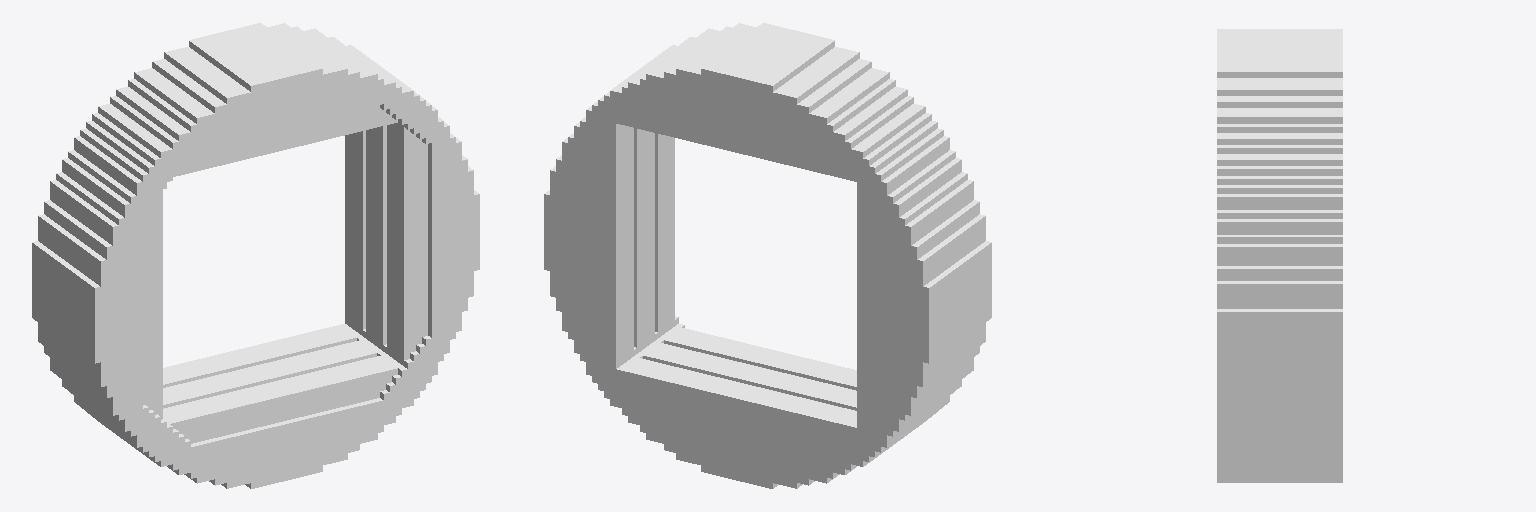
The model's file is flamethrower.obj.
3 renders of one model, left to right at view 1: azimuth 30°, elevation 25°; view 2: azimuth 150°, elevation 25°; view 3: azimuth 270°, elevation 25°, orthographic.
Visible parts, largest first — view 1: object 1; view 2: object 1; view 3: object 1.
Boxes of the visible parts, box(x1,y1,x2,y2) form: object 1: box(32, 23, 479, 488); object 1: box(544, 23, 991, 488); object 1: box(1217, 29, 1342, 482).
Size of the model in its own units: 6.4 by 6.4 by 1.8.